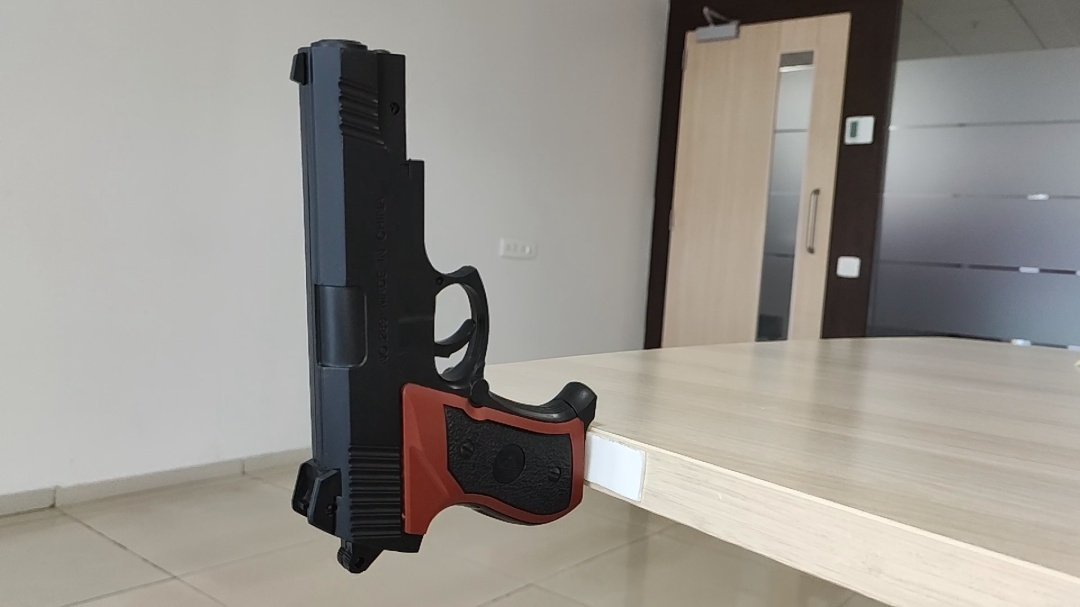gun: (482, 255, 614, 483)
